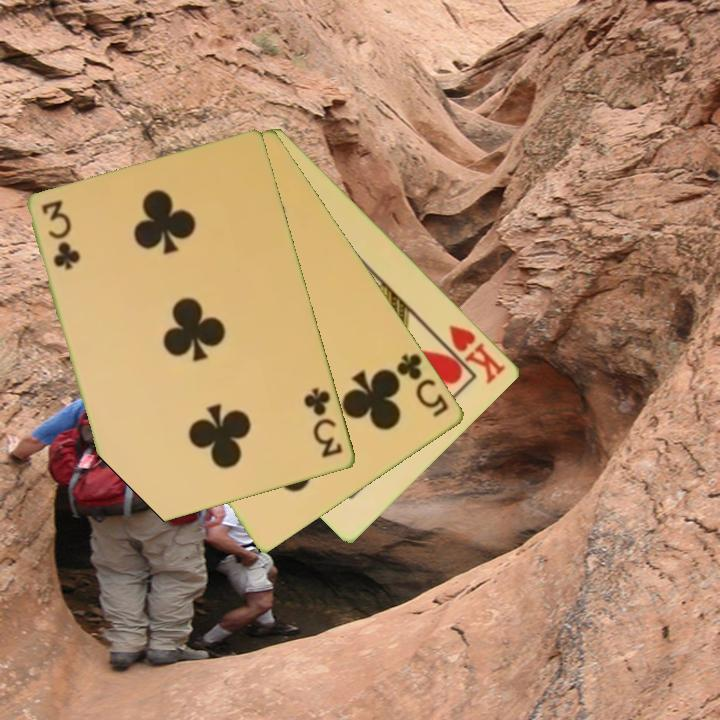3c: (300, 384, 346, 461), (38, 196, 81, 274)
5c: (390, 349, 452, 421)
Kh: (432, 321, 509, 388)
